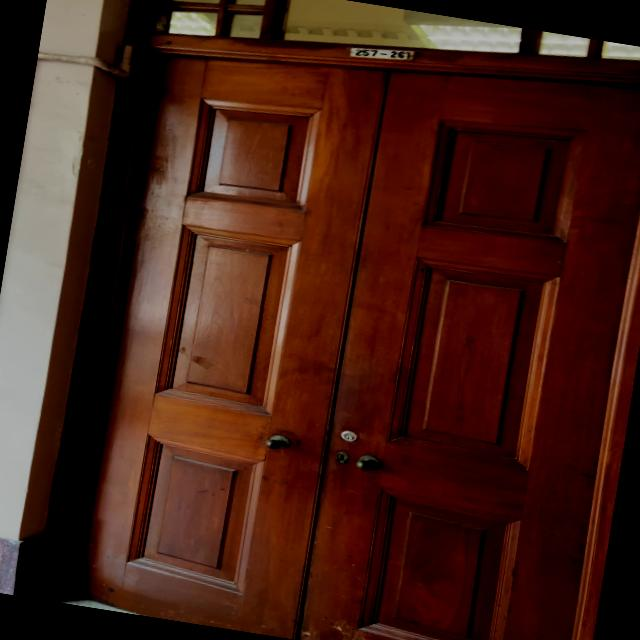room257: (346, 38, 418, 70)
room257door: (42, 0, 640, 640)
